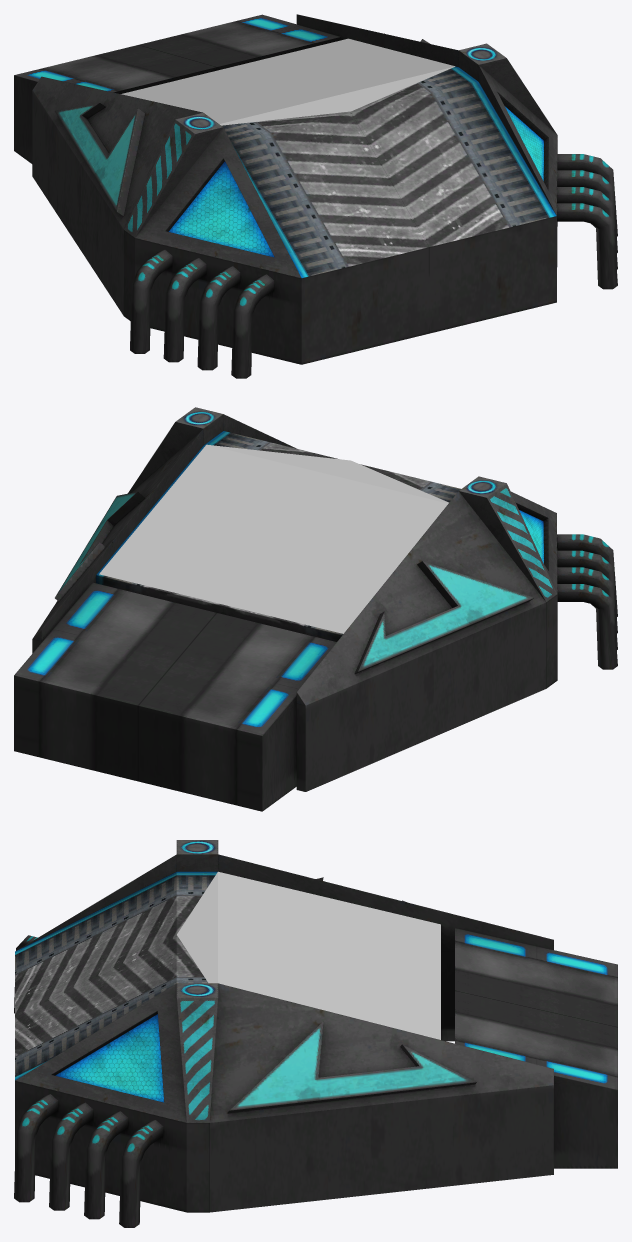
File: Accelerator.fbx
3 renders of one model, top to bottom at view 1: azimuth 30°, elevation 25°; view 2: azimuth 150°, elevation 25°; view 3: azimuth 270°, elevation 25°, orthographic. The views are drawn at different scales.
Visible parts, largest first — view 1: Accelerator, Accelerator_Light; view 2: Accelerator, Accelerator_Light; view 3: Accelerator, Accelerator_Light.
Part boxes in pixels (x1=…): Accelerator: x1=14, y1=14, x2=617, y2=378; Accelerator_Light: x1=121, y1=38, x2=455, y2=125; Accelerator: x1=14, y1=407, x2=617, y2=811; Accelerator_Light: x1=99, y1=444, x2=448, y2=633; Accelerator: x1=14, y1=840, x2=617, y2=1227; Accelerator_Light: x1=177, y1=871, x2=440, y2=1039.
Size of the model in its own units: 2.08 by 0.7413 by 2.17.
